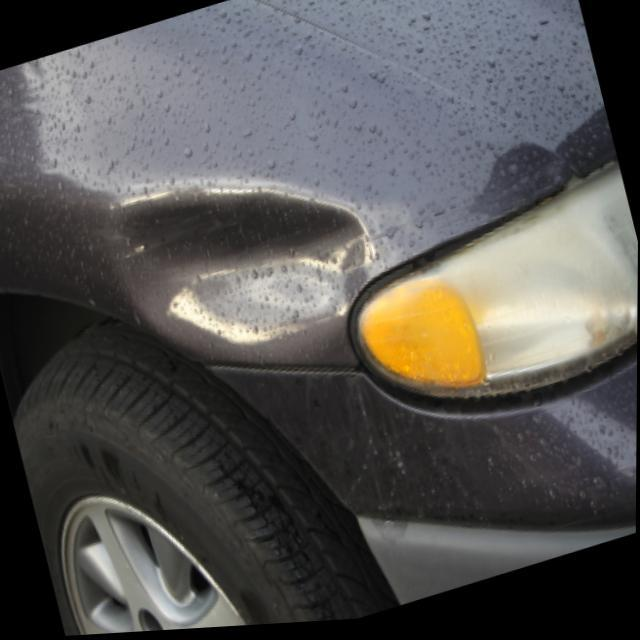Dent: (117, 167, 374, 374)
